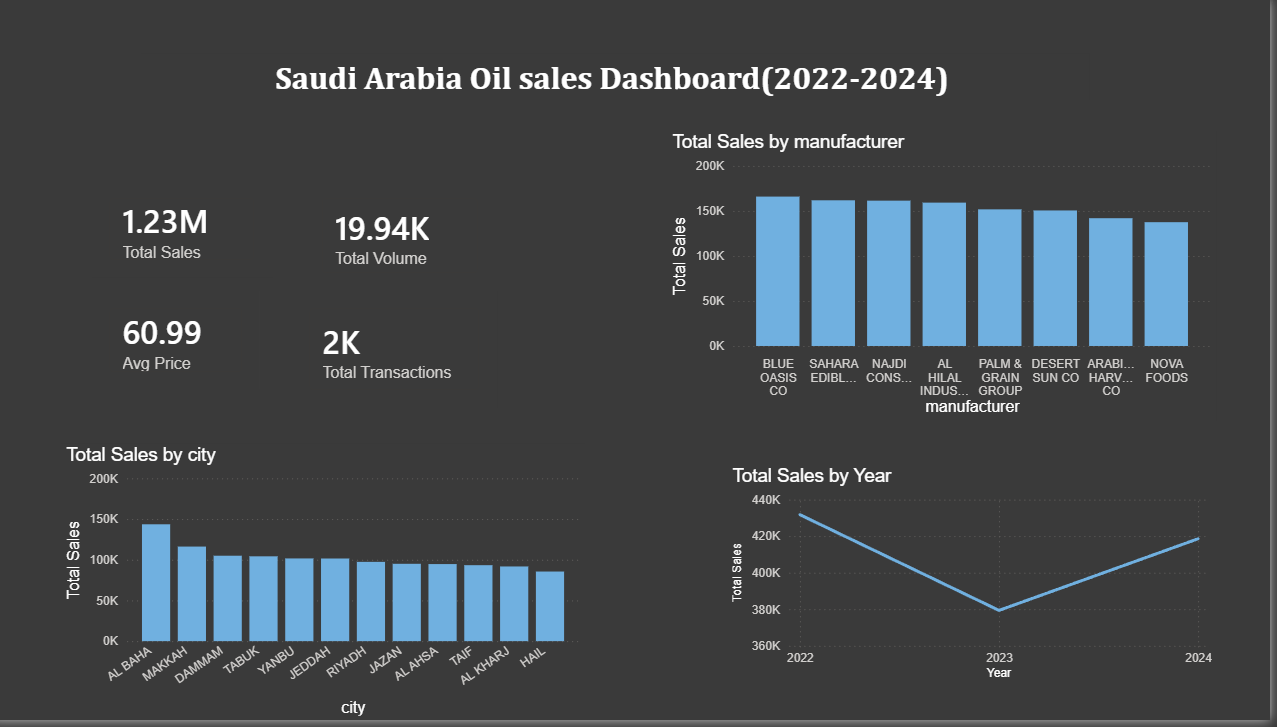

The page's visual inventory and layout, read from the dashboard file:
{"tool":"powerbi","page":{"name":"Page 1","canvas":[1280,720],"ordinal":0},"visuals":[{"type":"cardVisual","fields":{"Data":["oil_sales_assignment_dataset.Total Sales"]},"box":[102.9,181.1,179.8,96.1],"z":0},{"type":"cardVisual","fields":{"Data":["oil_sales_assignment_dataset.Total Volume"]},"box":[315.6,181.1,190.7,109.8],"z":1000},{"type":"cardVisual","fields":{"Data":["oil_sales_assignment_dataset.Avg Price"]},"box":[102.9,290.9,167.4,98.8],"z":2000},{"type":"cardVisual","fields":{"Data":["oil_sales_assignment_dataset.Total Transactions"]},"box":[301.9,290.9,204.5,116.6],"z":3000},{"type":"clusteredColumnChart","fields":{"Y":["oil_sales_assignment_dataset.Total Sales"],"Category":["oil_sales_assignment_dataset.manufacturer"]},"box":[677.9,131.7,548.9,289.5],"z":4000},{"type":"clusteredColumnChart","fields":{"Y":["oil_sales_assignment_dataset.Total Sales"],"Category":["oil_sales_assignment_dataset.city"]},"box":[71.4,443.2,522.8,277.2],"z":5000},{"type":"textbox","box":[150.9,53.5,948.2,48],"z":5002},{"type":"lineChart","fields":{"Category":["DateTable.Date.Variation.Date Hierarchy.Year","DateTable.Date.Variation.Date Hierarchy.Quarter","DateTable.Date.Variation.Date Hierarchy.Month","DateTable.Date.Variation.Date Hierarchy.Day"],"Y":["oil_sales_assignment_dataset.Total Sales"]},"box":[737.1,464.5,489.8,219.6],"z":5003}]}

Visuals, with their boxes in screenshot pixels (x1, y1, x2, y2), scaled from the page's 1280x720 canvas onto the 1277x727 screenshot:
cardVisual - oil_sales_assignment_dataset.Total Sales: left=103, top=183, right=282, bottom=280
cardVisual - oil_sales_assignment_dataset.Total Volume: left=315, top=183, right=505, bottom=294
cardVisual - oil_sales_assignment_dataset.Avg Price: left=103, top=294, right=270, bottom=393
cardVisual - oil_sales_assignment_dataset.Total Transactions: left=301, top=294, right=505, bottom=411
clusteredColumnChart - oil_sales_assignment_dataset.Total Sales x oil_sales_assignment_dataset.manufacturer: left=676, top=133, right=1224, bottom=425
clusteredColumnChart - oil_sales_assignment_dataset.Total Sales x oil_sales_assignment_dataset.city: left=71, top=448, right=593, bottom=726
textbox: left=151, top=54, right=1097, bottom=102
lineChart - DateTable.Date.Variation.Date Hierarchy.Year x DateTable.Date.Variation.Date Hierarchy.Quarter: left=735, top=469, right=1224, bottom=691
